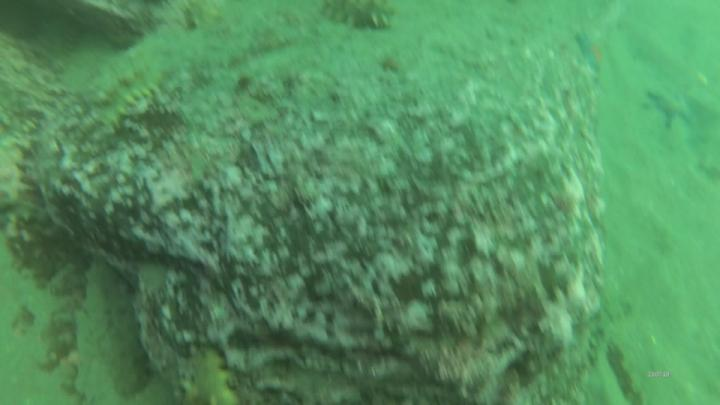echinus: (94, 76, 166, 138), (180, 344, 239, 405), (321, 1, 401, 34)
holothurian: (649, 87, 700, 131), (575, 30, 608, 78)
